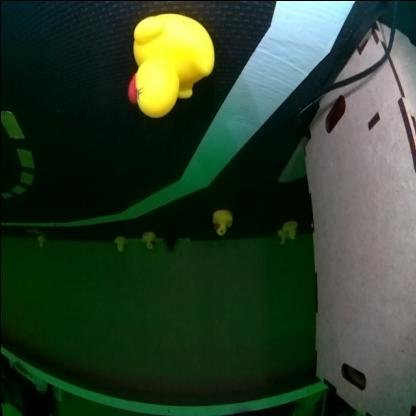Duckie: (128, 13, 213, 116), (211, 210, 231, 234), (282, 220, 296, 239), (140, 232, 154, 250), (112, 236, 126, 252), (276, 230, 284, 244), (35, 236, 43, 249)
